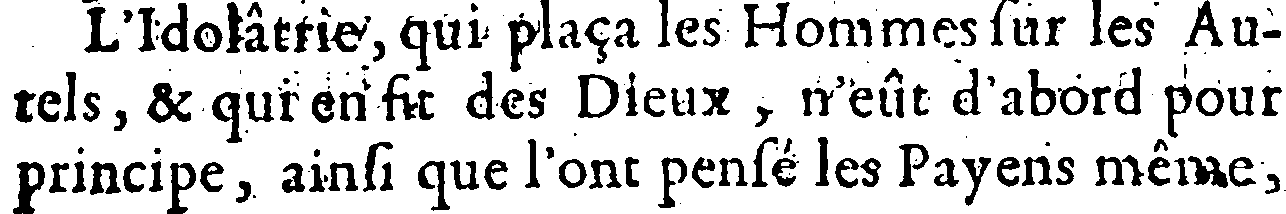o: (791, 11, 829, 51), (1195, 83, 1229, 122), (555, 155, 589, 193), (1060, 81, 1086, 120), (194, 21, 225, 53)
